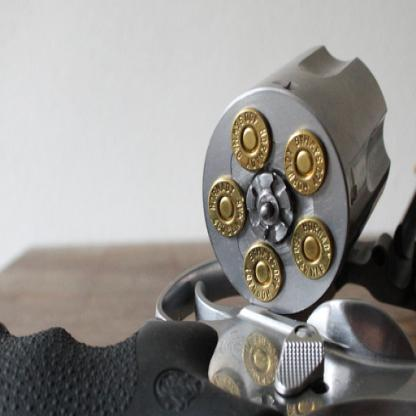gun: (0, 40, 415, 415)
